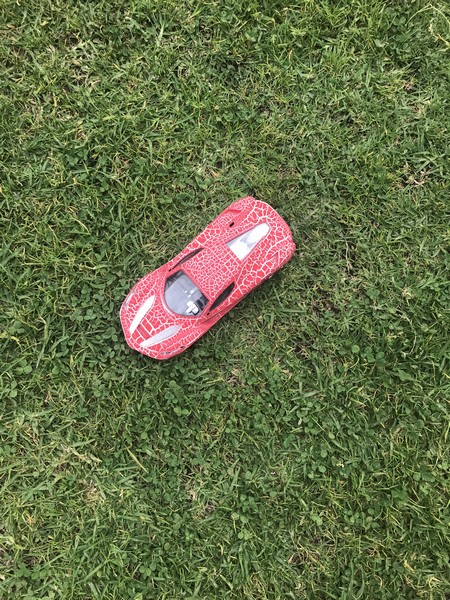RC: (121, 196, 302, 364)
